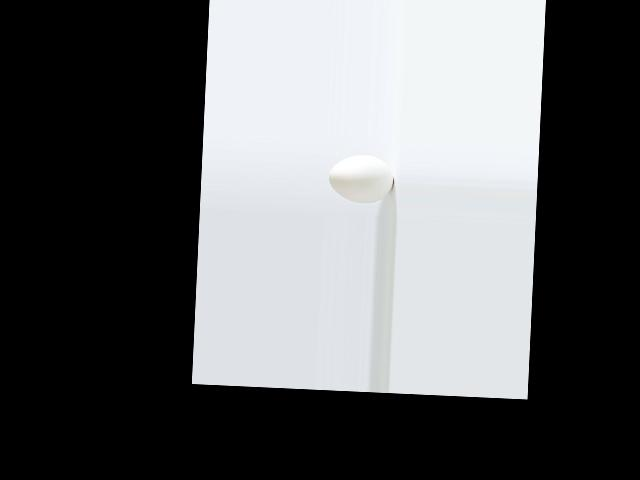egg: (327, 153, 394, 203)
